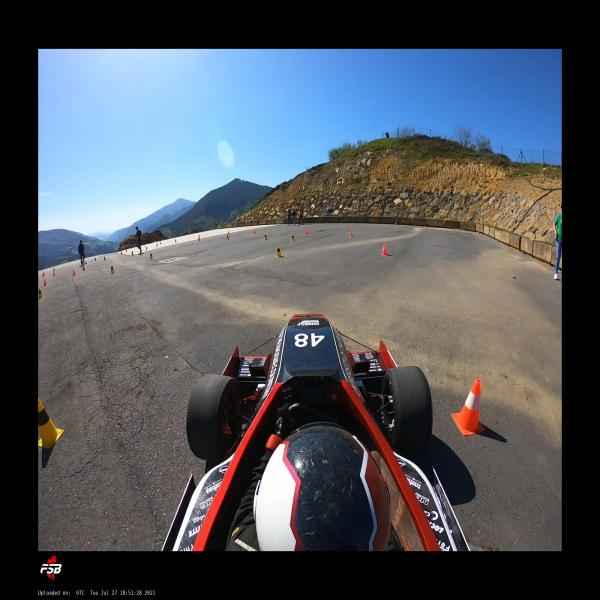orange_cone: (451, 379, 485, 436), (380, 242, 389, 255), (349, 228, 354, 236), (304, 228, 308, 234), (44, 278, 47, 286), (42, 272, 45, 277), (73, 270, 75, 276), (53, 271, 55, 276), (254, 229, 256, 234), (198, 234, 200, 238), (83, 264, 84, 271), (53, 268, 55, 271), (126, 250, 127, 252), (95, 258, 96, 260), (160, 242, 161, 244)
yellow_cone: (38, 398, 64, 449), (274, 245, 284, 258), (38, 288, 45, 300), (291, 234, 296, 241), (264, 233, 268, 241), (111, 264, 114, 274), (150, 252, 152, 259), (226, 235, 228, 240), (132, 251, 134, 255), (198, 237, 200, 241), (156, 244, 158, 247), (175, 240, 177, 243), (104, 258, 106, 260), (228, 232, 230, 234), (121, 252, 122, 254)
